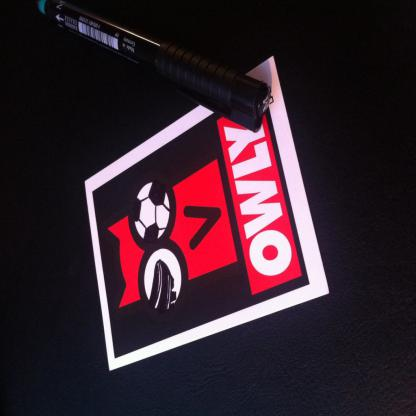Ball: (132, 183, 170, 243)
